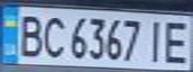3: (84, 15, 109, 61)
6: (66, 12, 90, 60), (103, 16, 127, 62)
7: (121, 17, 145, 62)
B: (12, 11, 48, 58)
C: (39, 12, 69, 60)
E: (160, 17, 193, 65)
I: (142, 17, 169, 64)
